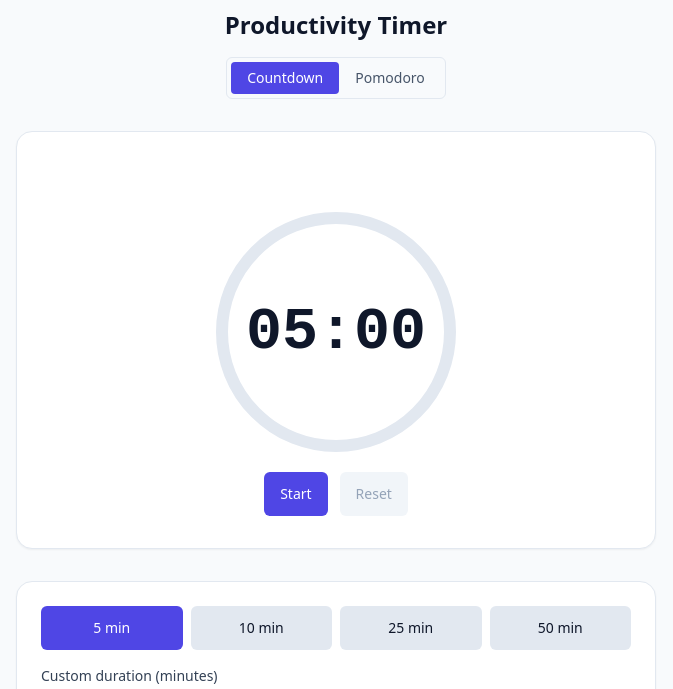
it: Countdown completion › reaches finished, plays sound when enabled, notifies when granted, stats unchanged
Click the button "Start" at (296, 494), box x1=264 y1=472 x2=328 y2=516
Wait 250 ms
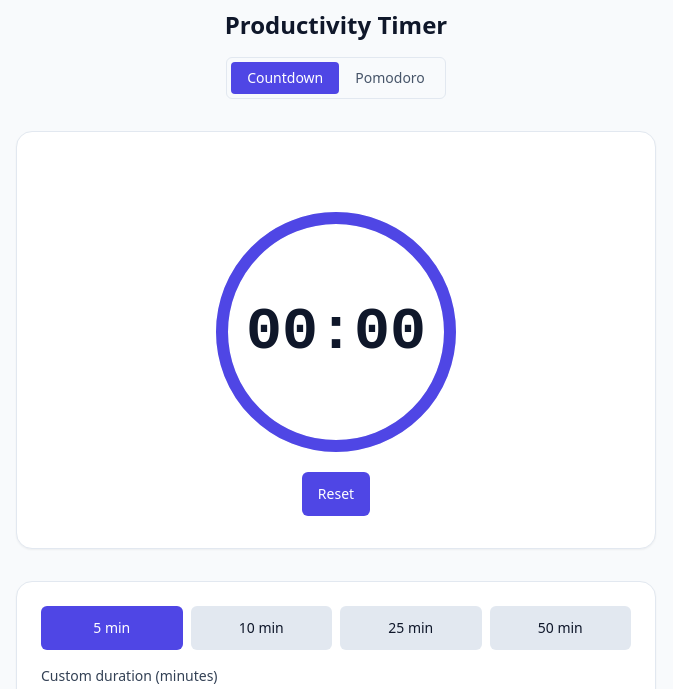
Expected: the button "Start" is not shown
Expected: the text "00:00" is shown, x1=246 y1=302 x2=426 y2=362
Expected: the button "Reset" is enabled, x1=302 y1=472 x2=370 y2=516
